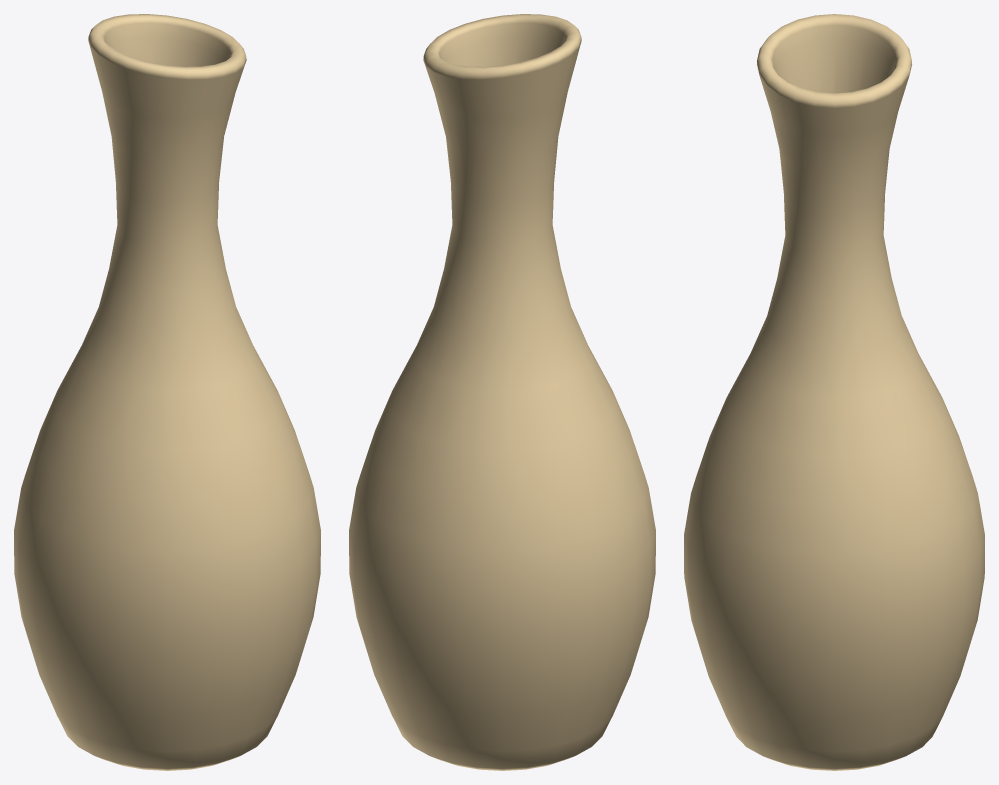
File: SM_Vase_1.FBX
The picture shows the model from 3 angles, left to right: view 1: azimuth 30°, elevation 25°; view 2: azimuth 150°, elevation 25°; view 3: azimuth 270°, elevation 25°; orthographic projection.
Visible parts, largest first — view 1: SM_Vase_1; view 2: SM_Vase_1; view 3: SM_Vase_1.
Part boxes in pixels (bbox=[...]): SM_Vase_1: bbox=[14, 14, 320, 770]; SM_Vase_1: bbox=[349, 14, 655, 770]; SM_Vase_1: bbox=[684, 14, 984, 770].
Bounding box in the file's own units: 16.77 × 16.77 × 42.35.
